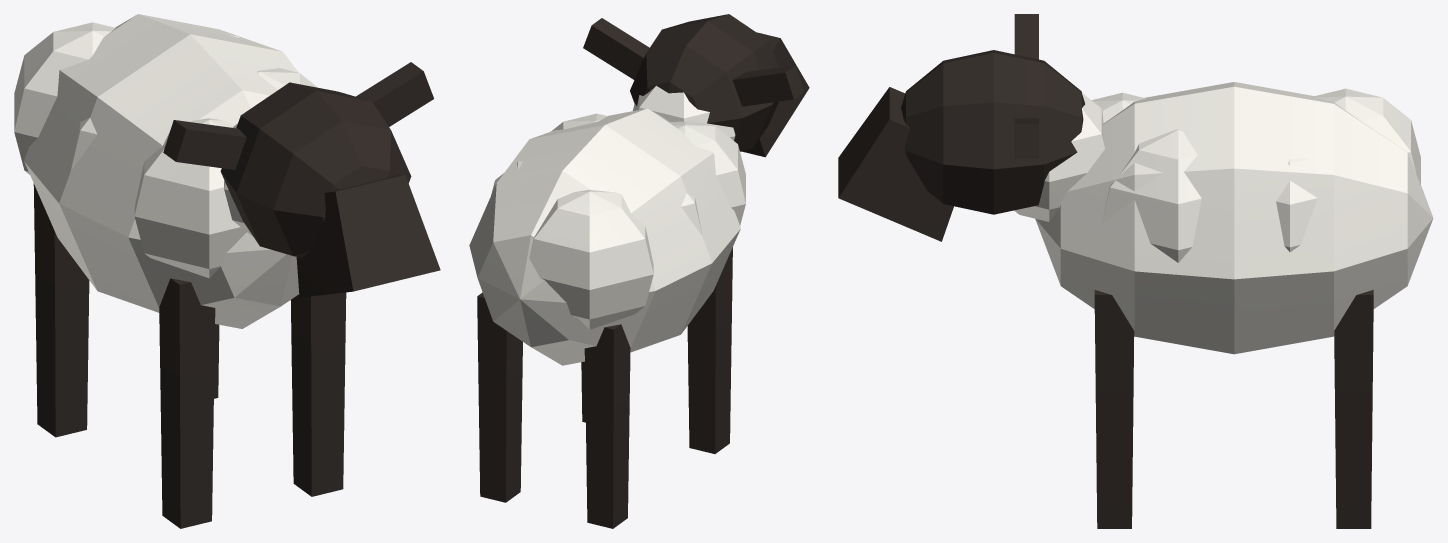
The model's file is SM_Lamb.glb.
The picture shows the model from 3 angles, left to right: view 1: azimuth 30°, elevation 25°; view 2: azimuth 150°, elevation 25°; view 3: azimuth 270°, elevation 25°; orthographic projection. The views are drawn at different scales.
Parts seen in each view (by area): view 1: SM_Lamb; view 2: SM_Lamb; view 3: SM_Lamb.
Boxes of the visible parts, x1,y1,x2,y2 form: SM_Lamb: (14,14,440,528); SM_Lamb: (469,14,809,528); SM_Lamb: (838,14,1433,528).
Size of the model in its own units: 0.4 by 0.6669 by 0.8209.
1 material, 1 textured.
